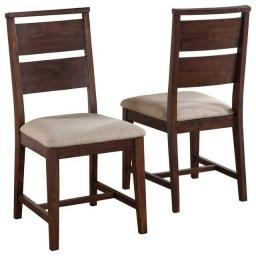Chair: (5, 8, 147, 252), (122, 6, 249, 214)
